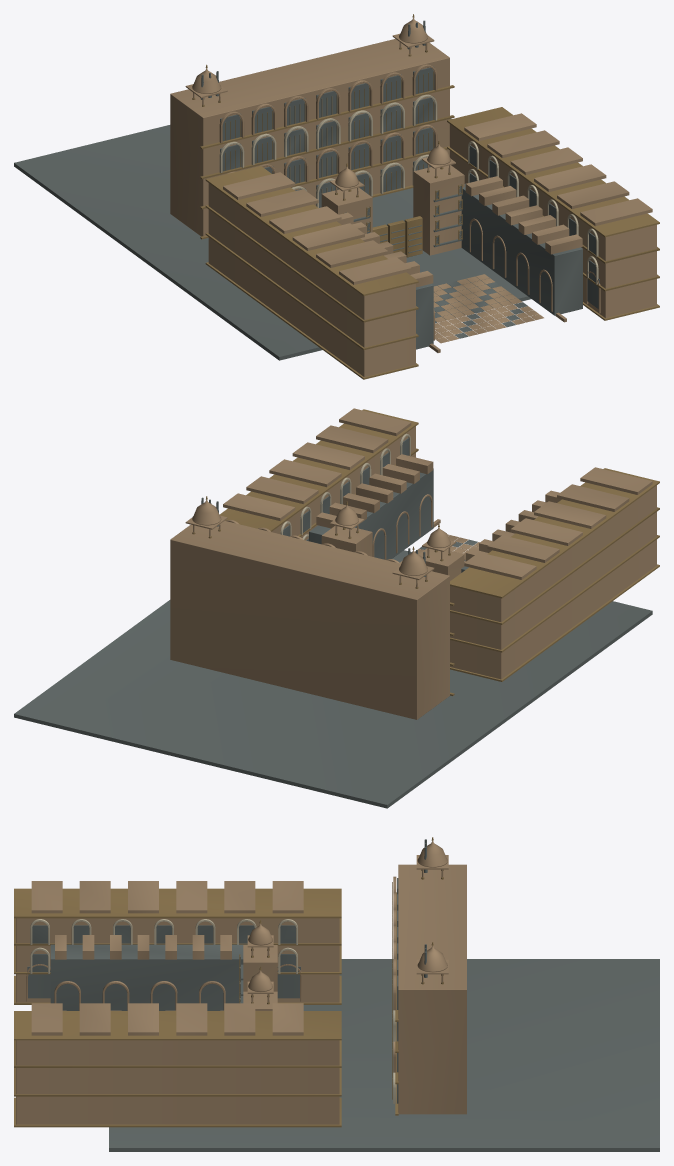
Rendered from arena-80.glb.
3 views of the same model, one above another, from view 1: azimuth 30°, elevation 25°; view 2: azimuth 150°, elevation 25°; view 3: azimuth 270°, elevation 25° (orthographic). The views are drawn at different scales.
Parts seen in each view (by area): view 1: correction-sand, correction-dark, correction-bronze, correction-plaster; view 2: correction-sand, correction-dark, correction-bronze, correction-plaster; view 3: correction-sand, correction-dark, correction-bronze, correction-plaster.
Boxes of the visible parts, x1,y1,x2,y2 form: correction-sand: [170, 17, 656, 376]; correction-dark: [14, 20, 599, 360]; correction-bronze: [192, 14, 659, 379]; correction-plaster: [219, 94, 598, 284]; correction-sand: [170, 408, 656, 719]; correction-dark: [14, 438, 652, 808]; correction-bronze: [192, 409, 659, 695]; correction-plaster: [280, 433, 410, 539]; correction-sand: [16, 840, 466, 1124]; correction-dark: [27, 839, 659, 1151]; correction-bronze: [14, 837, 443, 1127]; correction-plaster: [30, 919, 396, 1103].
Bounding box in the file's own units: 65 × 26.86 × 93.8.
